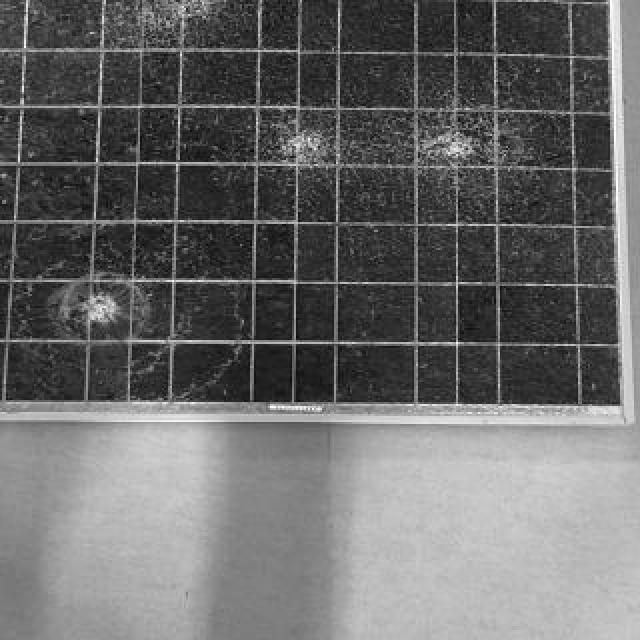Physical-damage: (56, 275, 148, 345), (414, 110, 498, 176), (112, 0, 209, 56), (256, 121, 332, 173)
